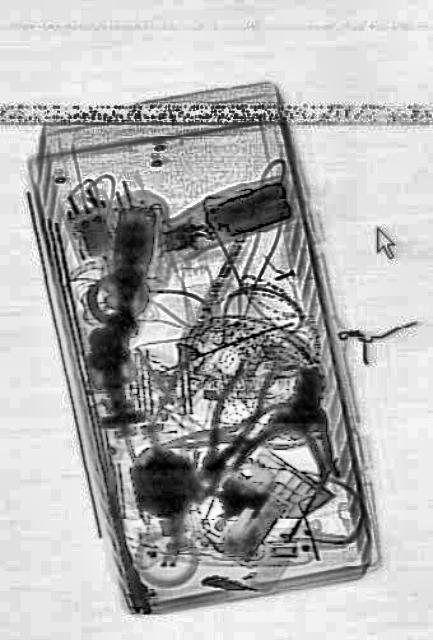Pliers: (182, 348, 274, 500), (158, 392, 324, 473)
